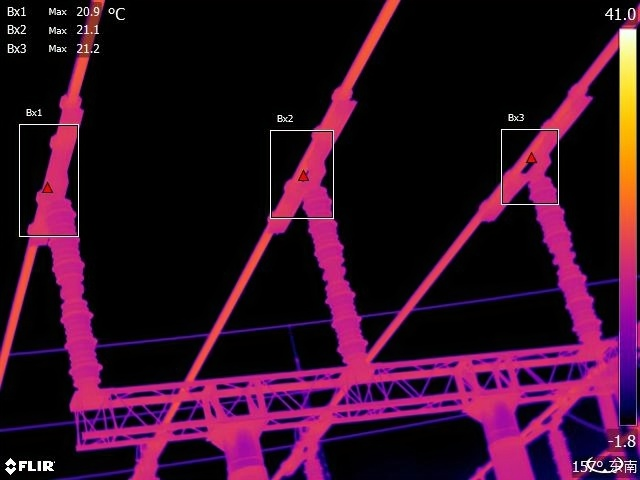post insulator: (39, 186, 113, 381), (299, 190, 371, 365), (544, 175, 597, 340)
